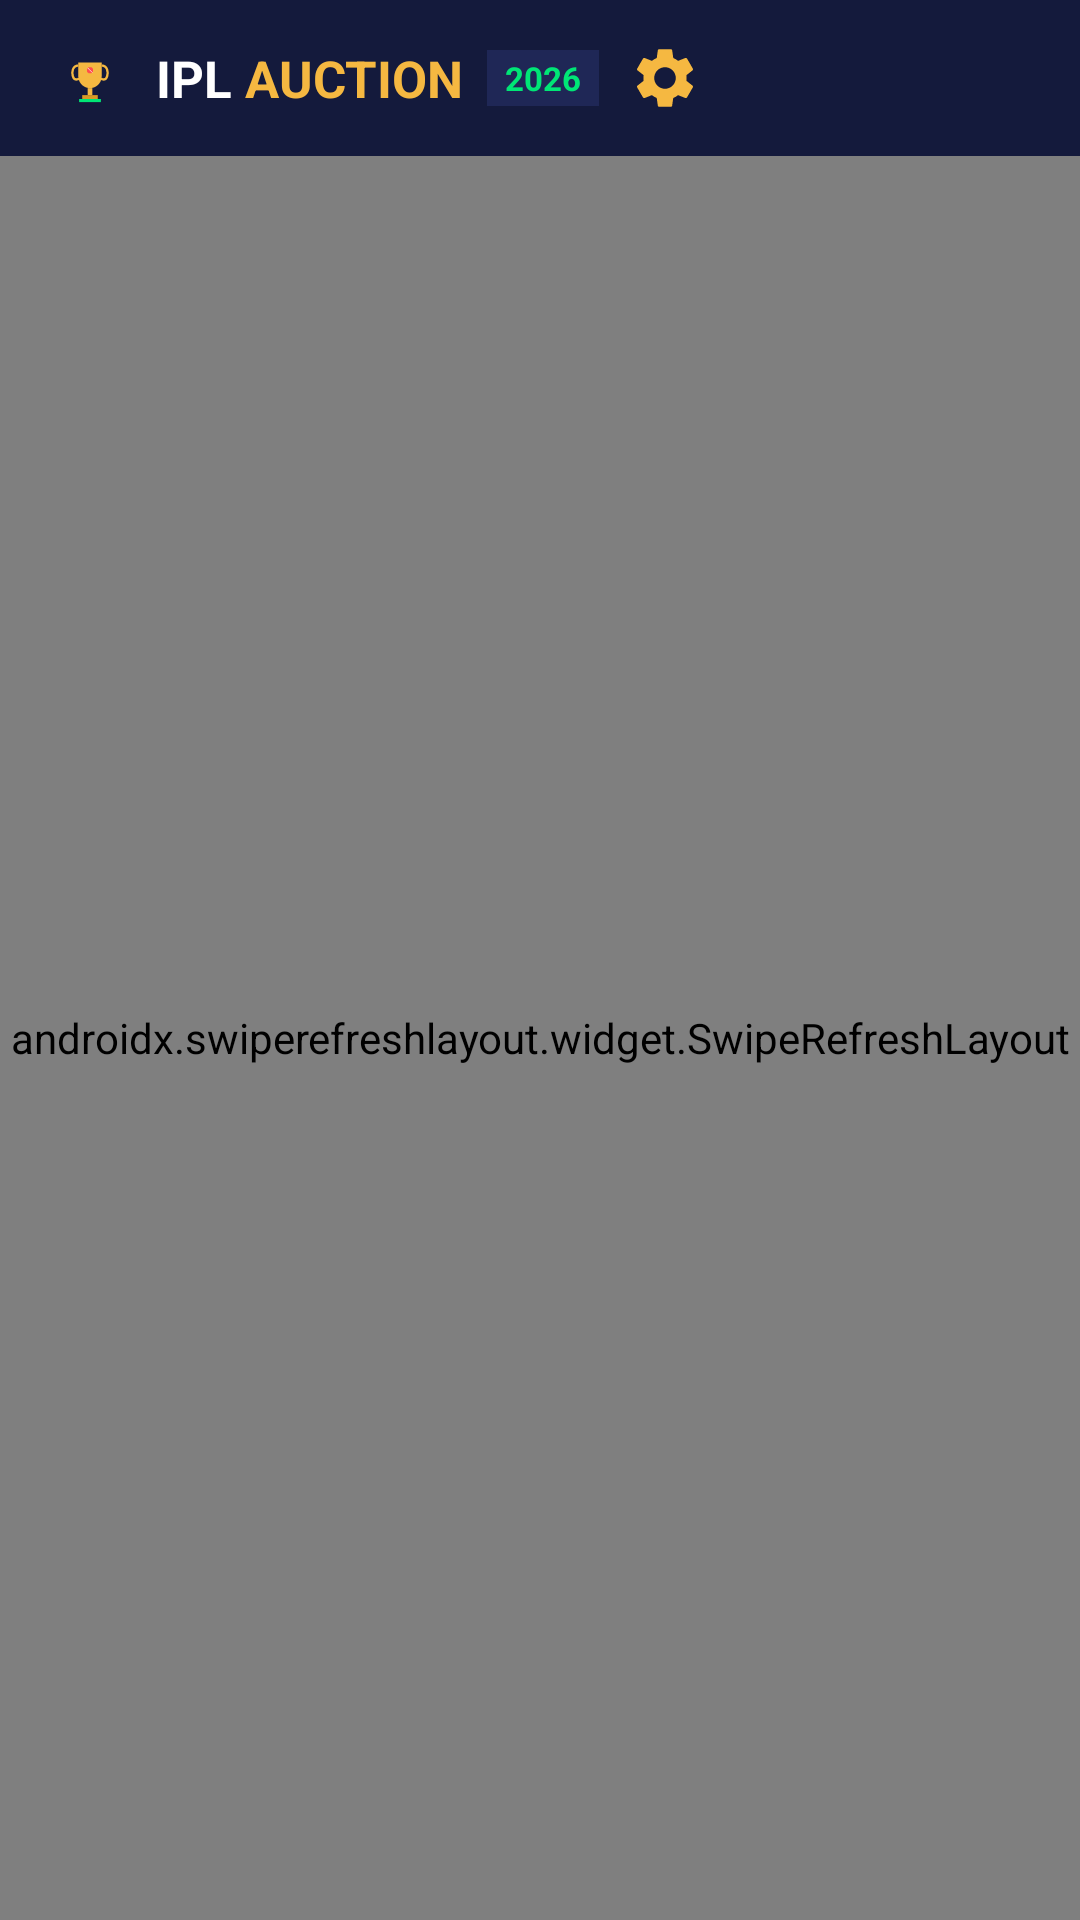

Icon click points for this 1080 × 1920 phone screenshot, format (x=x, y=y):
Change Server URL: (x=665, y=78)
